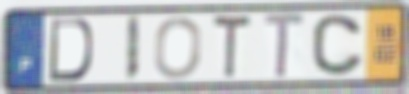C: (310, 12, 367, 78)
D: (45, 17, 95, 84)
I: (123, 14, 142, 84)
O: (152, 15, 204, 81)
T: (262, 11, 308, 82), (209, 13, 254, 82)
